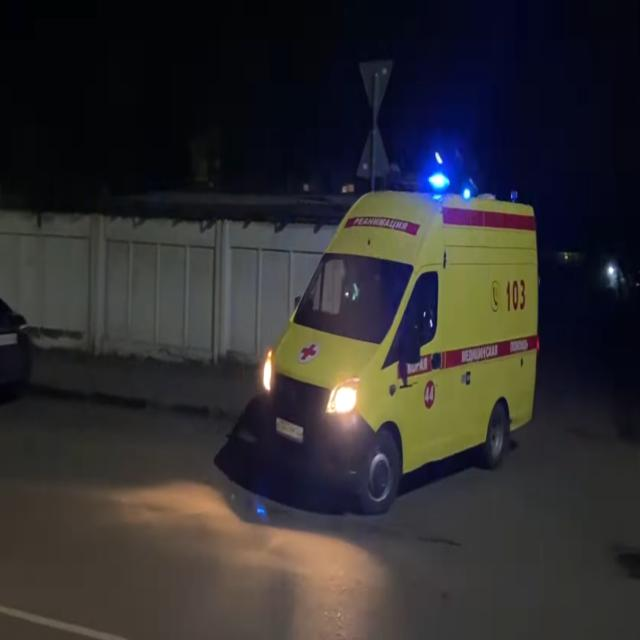intensive care unit: (259, 171, 541, 514)
